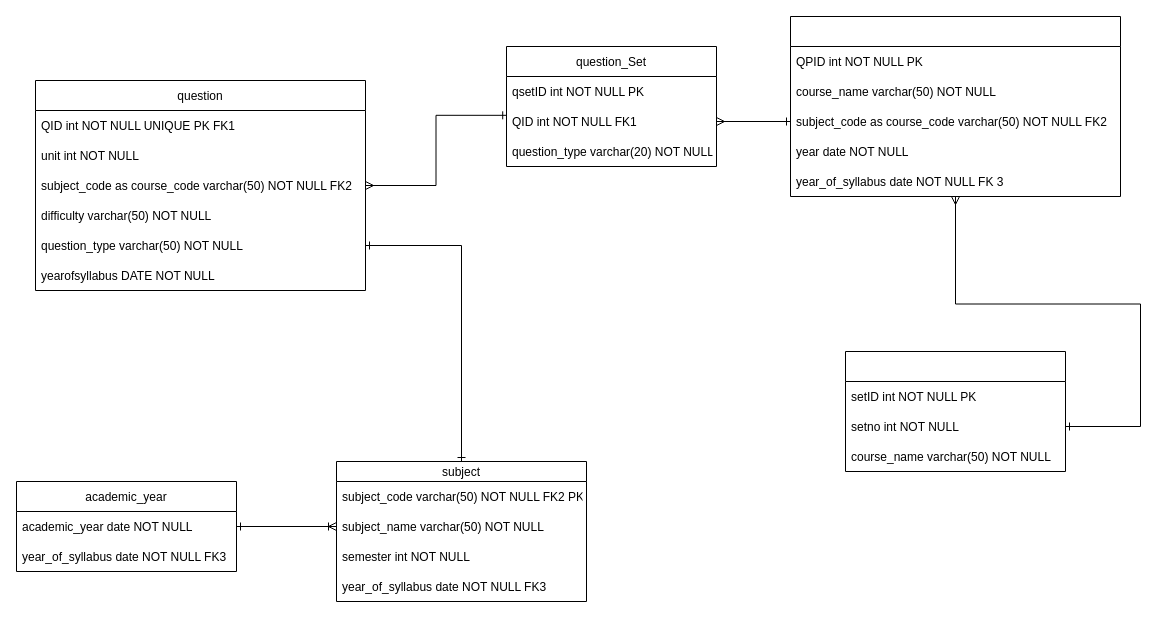
This 1157x618 diagram has some shape labels left out. The box of each missing label's shape, as (x1, y1, x2, y2) in pixels:
question_paper: (790, 16, 1120, 196)
question_paper_set: (844, 350, 1066, 472)
